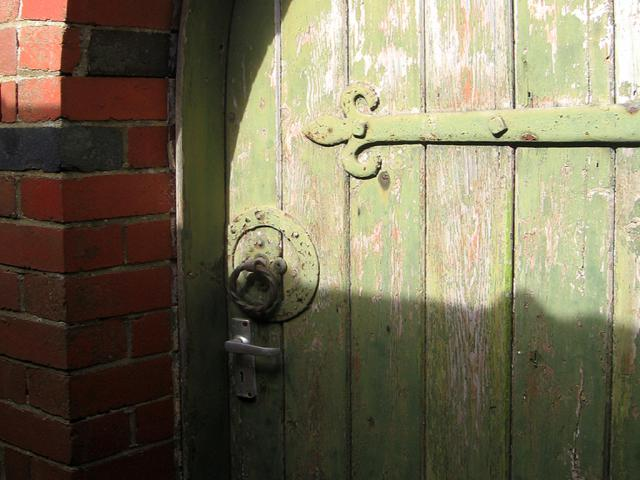Door-handle: (222, 315, 281, 400), (226, 253, 282, 317)
